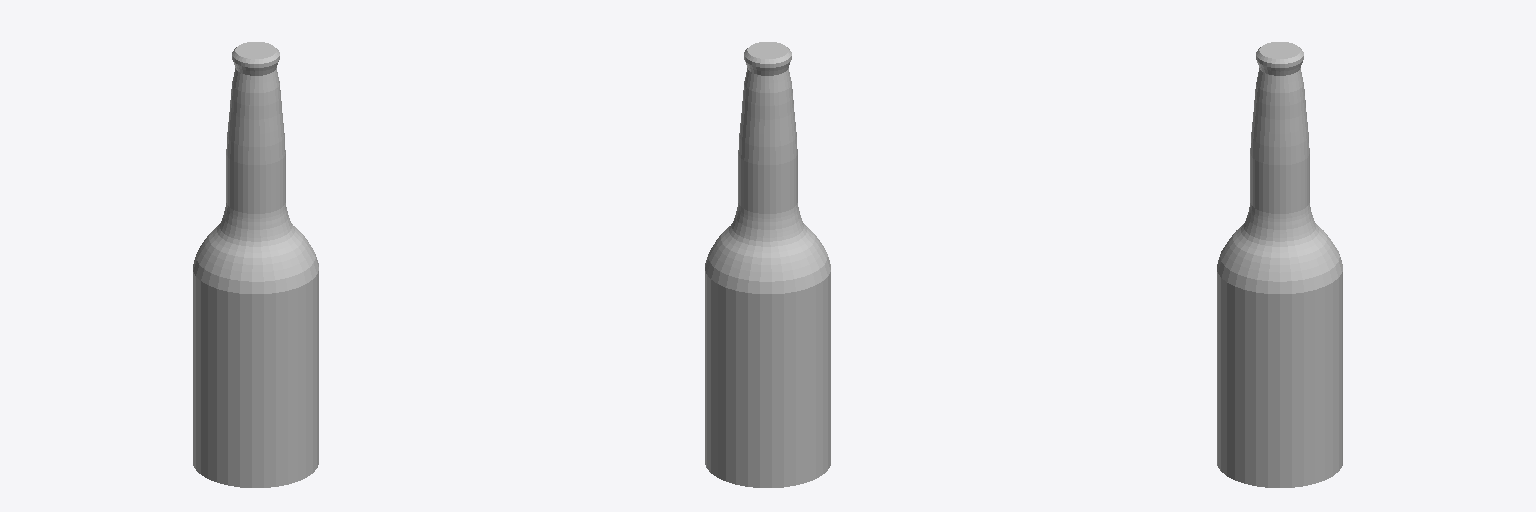
The model's file is FineBeer.obj.
3 renders of one model, left to right at view 1: azimuth 30°, elevation 25°; view 2: azimuth 150°, elevation 25°; view 3: azimuth 270°, elevation 25°, orthographic.
Visible parts, largest first — view 1: Cylinder; view 2: Cylinder; view 3: Cylinder.
Boxes of the visible parts, x1,y1,x2,y2 form: Cylinder: [193, 42, 318, 487]; Cylinder: [705, 42, 830, 487]; Cylinder: [1217, 42, 1342, 487].
Bounding box in the file's own units: 27.95 × 99.93 × 27.95.